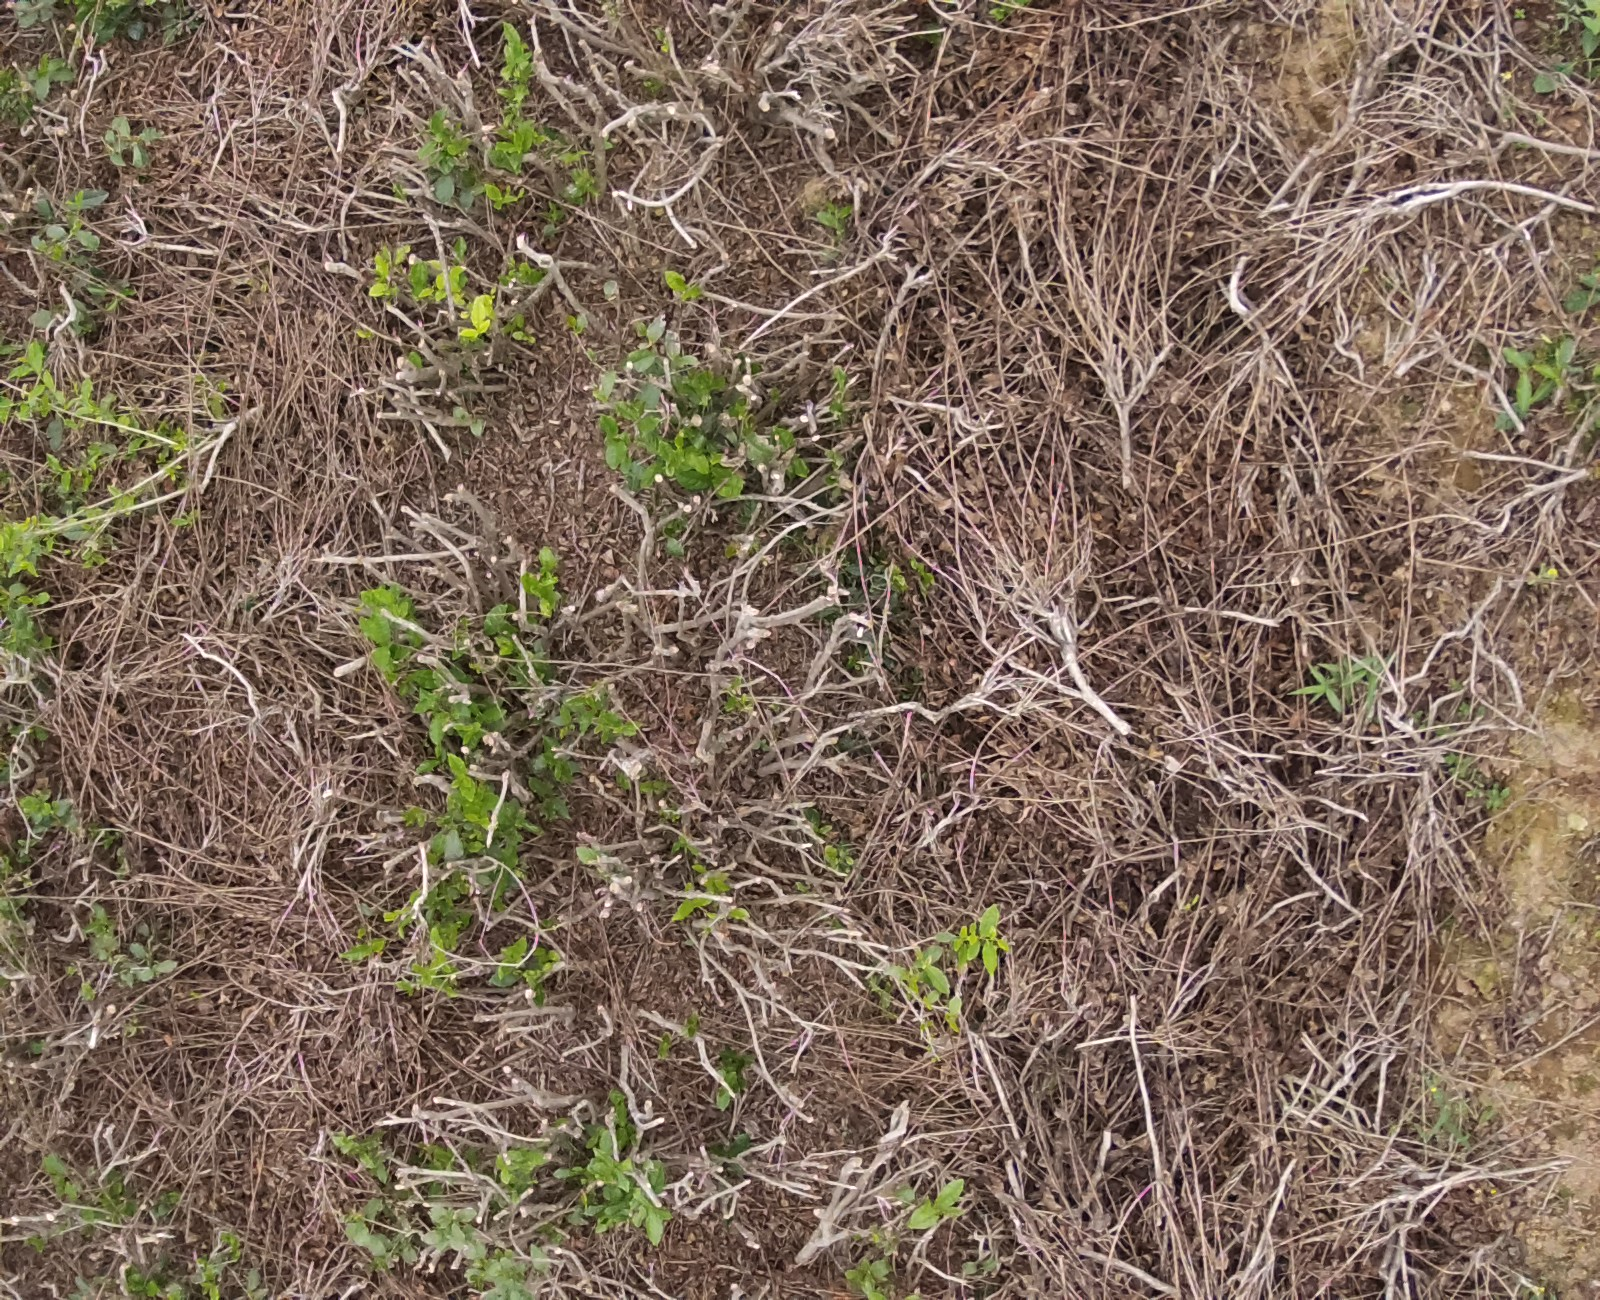new: (983, 941, 999, 976), (374, 252, 391, 281), (472, 296, 486, 330), (665, 271, 685, 293), (366, 283, 390, 296), (353, 328, 375, 340), (435, 271, 448, 291), (450, 292, 466, 308), (478, 318, 491, 337), (448, 267, 464, 280), (458, 328, 478, 338), (996, 938, 1010, 952), (907, 978, 919, 994), (429, 260, 446, 271), (1547, 566, 1562, 578), (954, 937, 965, 952), (419, 287, 433, 298), (436, 288, 448, 301), (448, 280, 460, 293), (381, 913, 399, 921), (968, 934, 978, 946), (968, 923, 976, 935), (959, 926, 967, 938)
